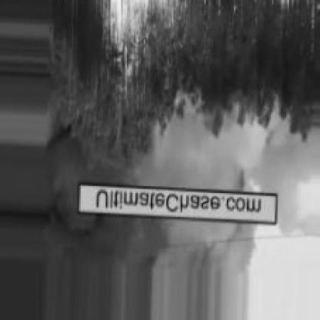Fire: (89, 4, 193, 97)
Smoke: (55, 122, 311, 258)
